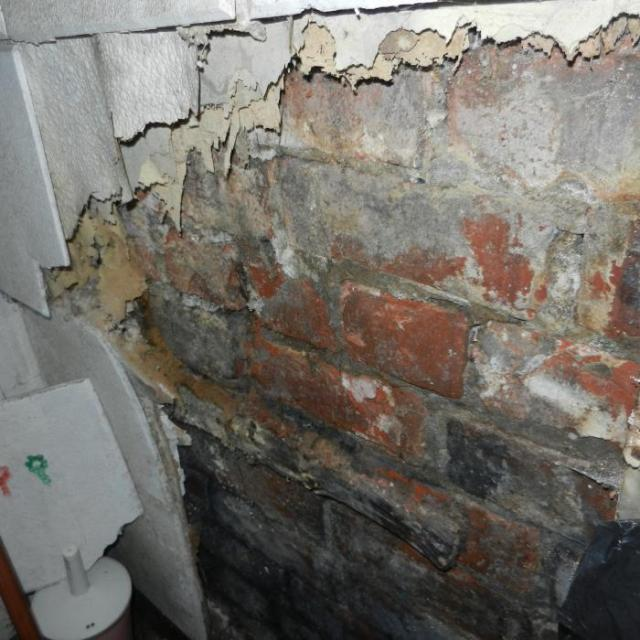damaged_plaster_board: (0, 0, 639, 315)
damp: (126, 5, 637, 630)
damp_damage: (45, 15, 639, 639)
